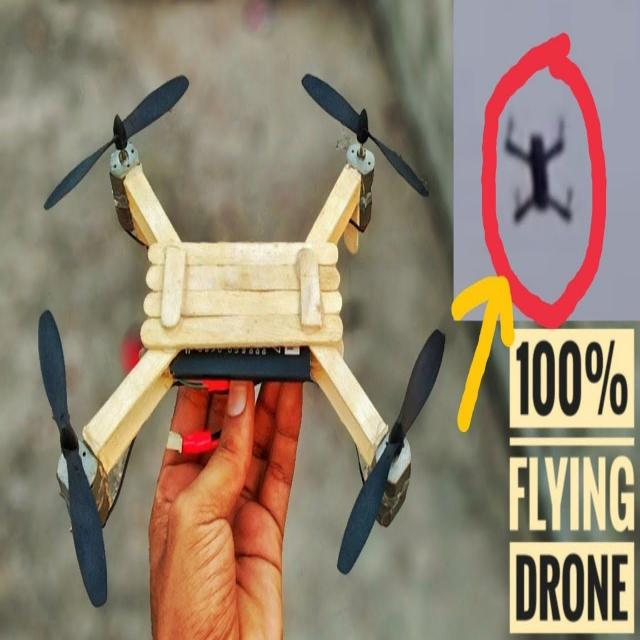drone: (28, 65, 422, 597)
